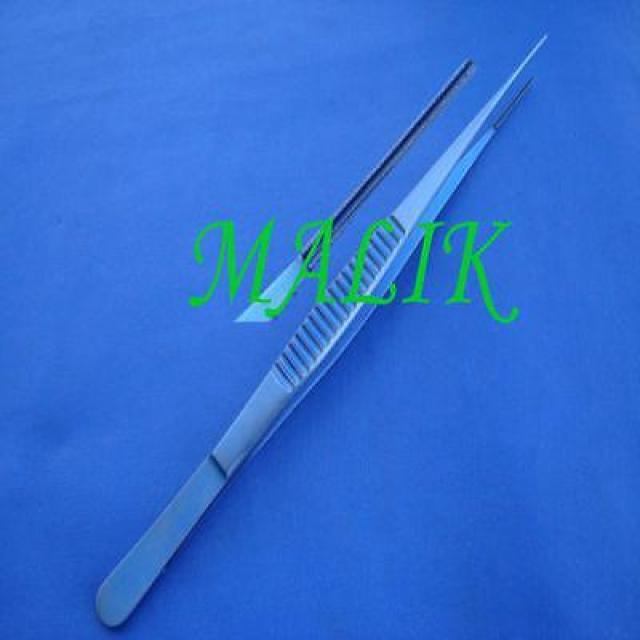Forceps: (90, 27, 554, 640)
